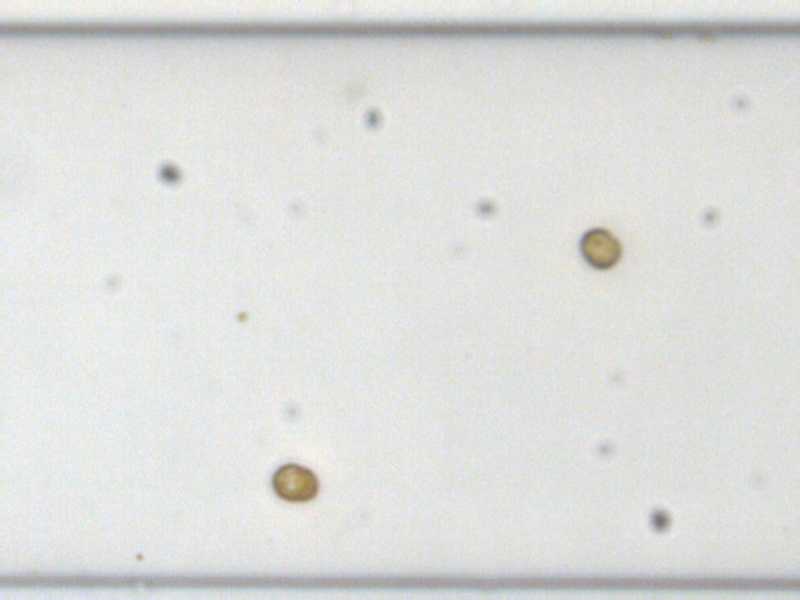Chlorella: (234, 309, 250, 323)
Effrenium: (267, 460, 321, 505), (576, 226, 623, 270)
